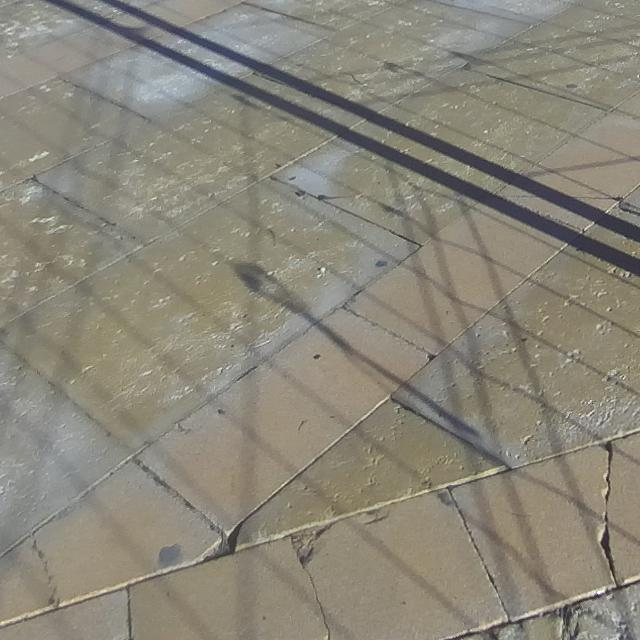calcada_quebrada: (288, 534, 333, 640), (599, 442, 621, 590)
